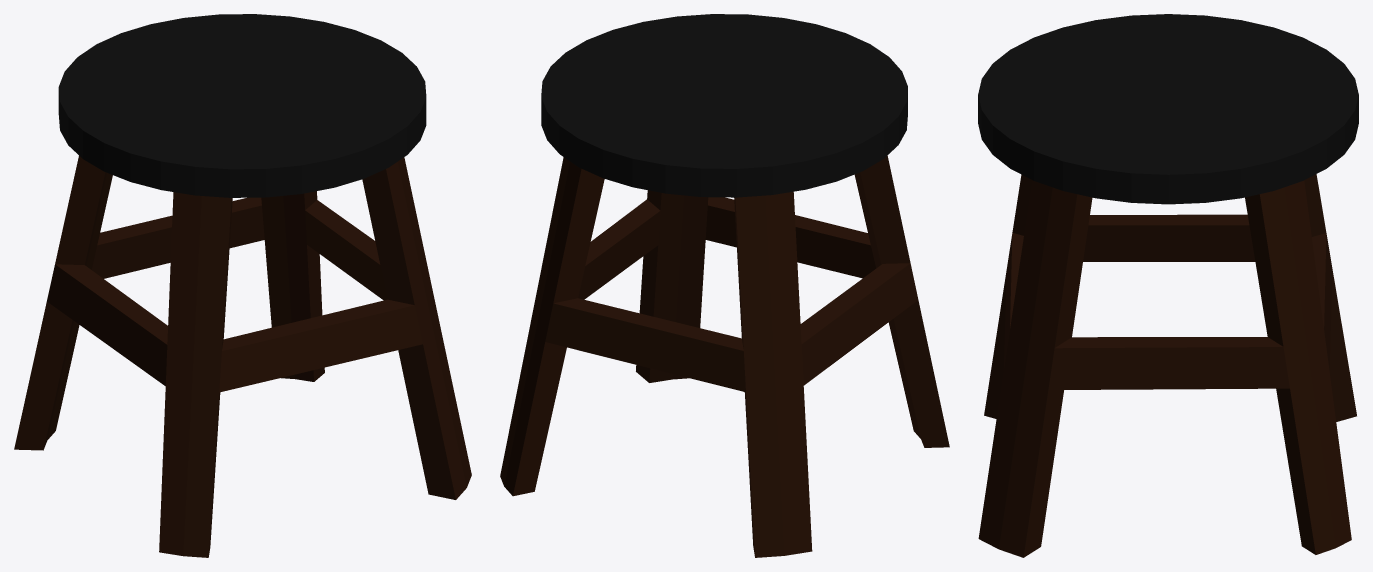
File: stool.obj
The picture shows the model from 3 angles, left to right: view 1: azimuth 30°, elevation 25°; view 2: azimuth 150°, elevation 25°; view 3: azimuth 270°, elevation 25°; orthographic projection. The views are drawn at different scales.
Visible parts, largest first — view 1: Cylinder; view 2: Cylinder; view 3: Cylinder.
Boxes of the visible parts, box(x1,y1,x2,y2) form: Cylinder: box(14, 14, 471, 557); Cylinder: box(500, 14, 949, 557); Cylinder: box(978, 14, 1358, 557).
Size of the model in its own units: 1.03 by 1.15 by 1.03.
